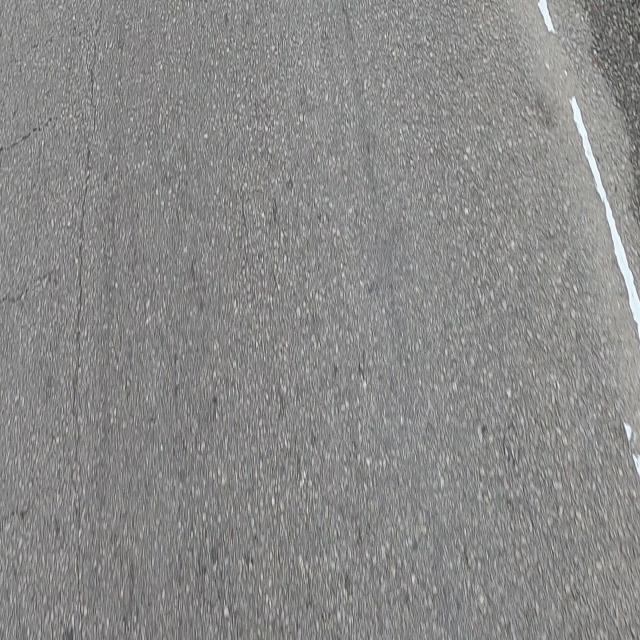Retak-Melintang: (0, 114, 62, 156), (1, 269, 55, 306)
Retak-Memanjang: (69, 59, 98, 640)
